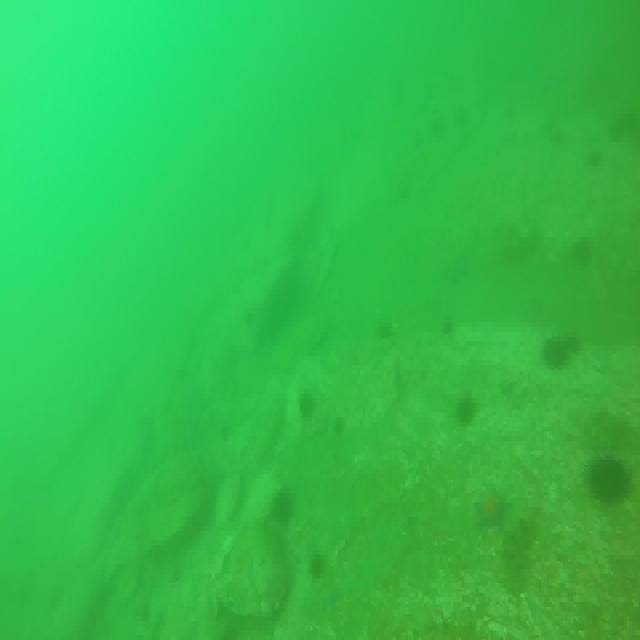echinus: (587, 455, 631, 510), (544, 334, 568, 374), (273, 488, 295, 524), (561, 328, 585, 359), (576, 232, 594, 272), (609, 115, 634, 142), (459, 394, 479, 426), (311, 553, 326, 585), (444, 312, 460, 340), (299, 394, 316, 419), (552, 121, 567, 147), (381, 317, 394, 343), (591, 148, 604, 170)
holothurian: (498, 512, 540, 599)
starfish: (475, 489, 509, 528)
